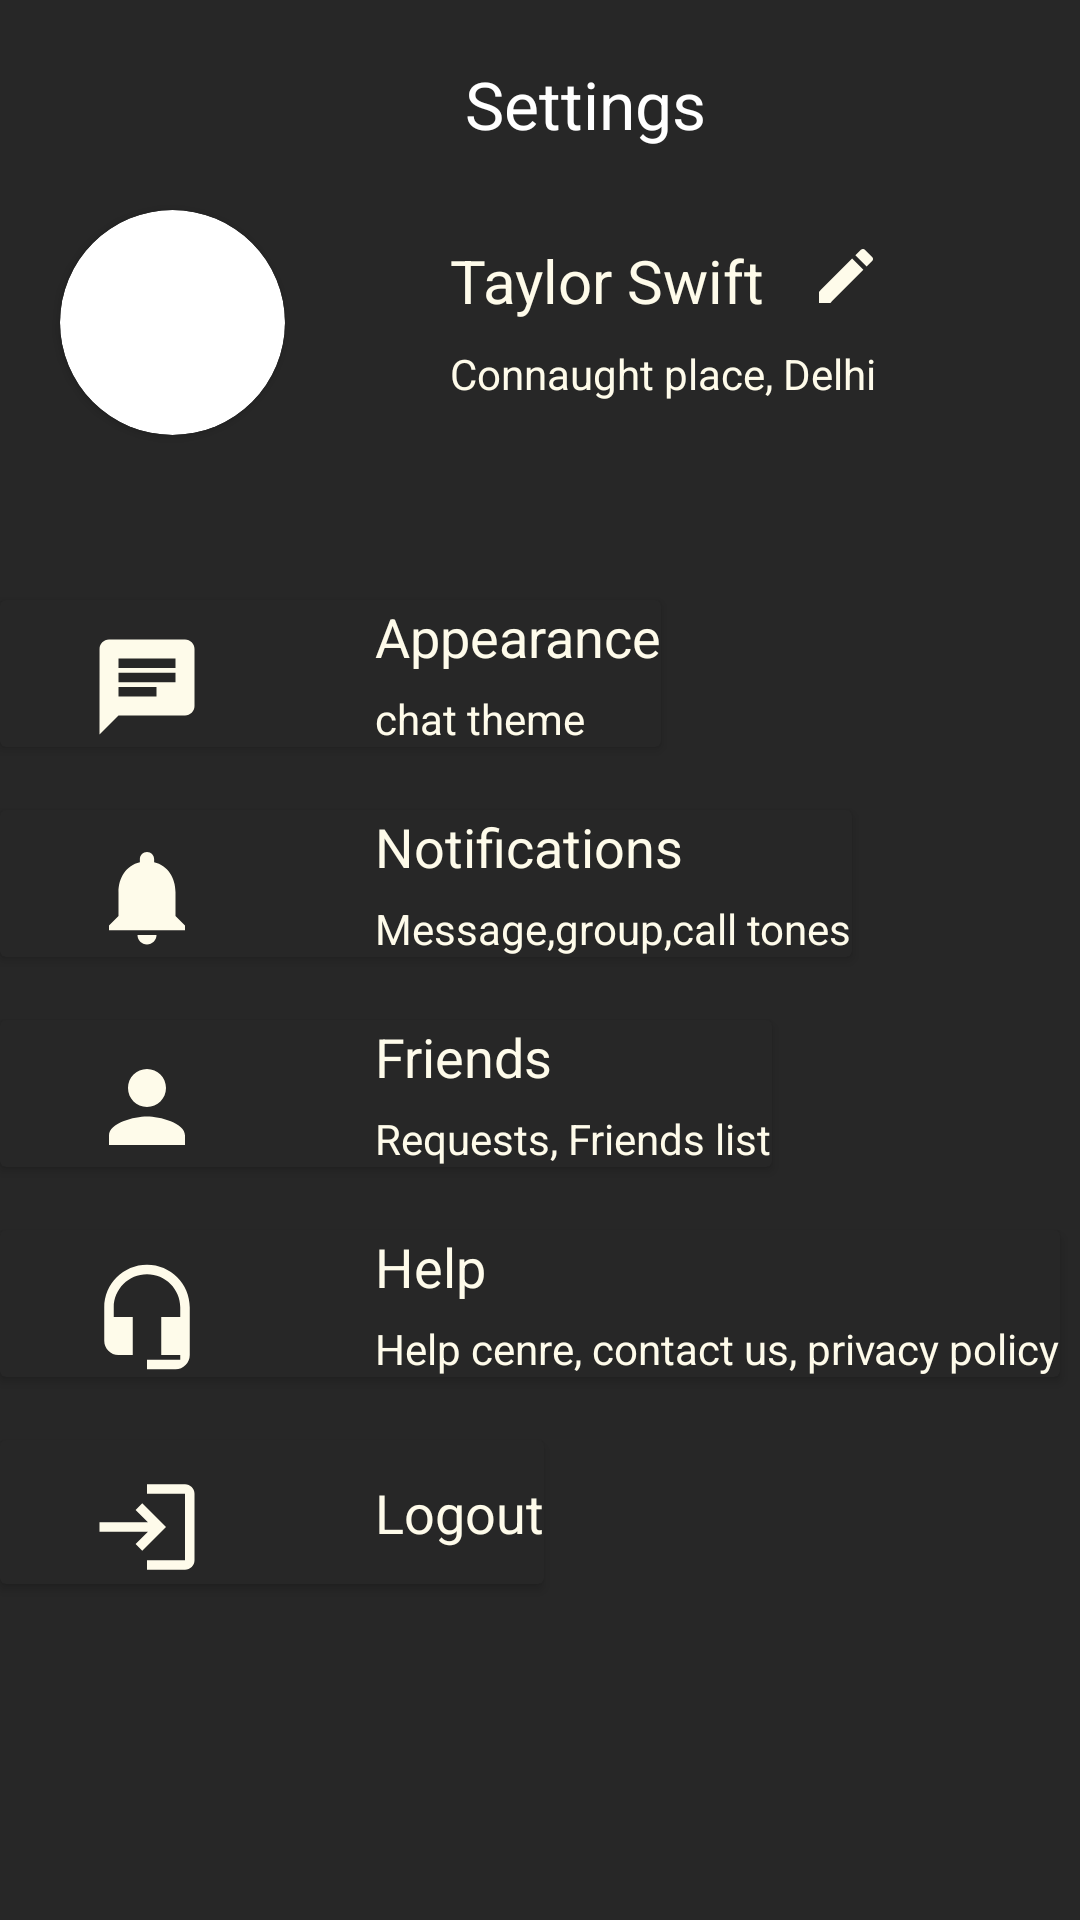

Screen size 1080w x 1920h. Icon name, then its box in pixels as (x1, y1, x2, y2):
chat: (99, 639, 195, 735)
edit: (819, 249, 873, 303)
headset mic: (104, 1264, 190, 1370)
login: (99, 1484, 195, 1570)
notifications: (109, 852, 185, 945)
person: (109, 1069, 185, 1145)
